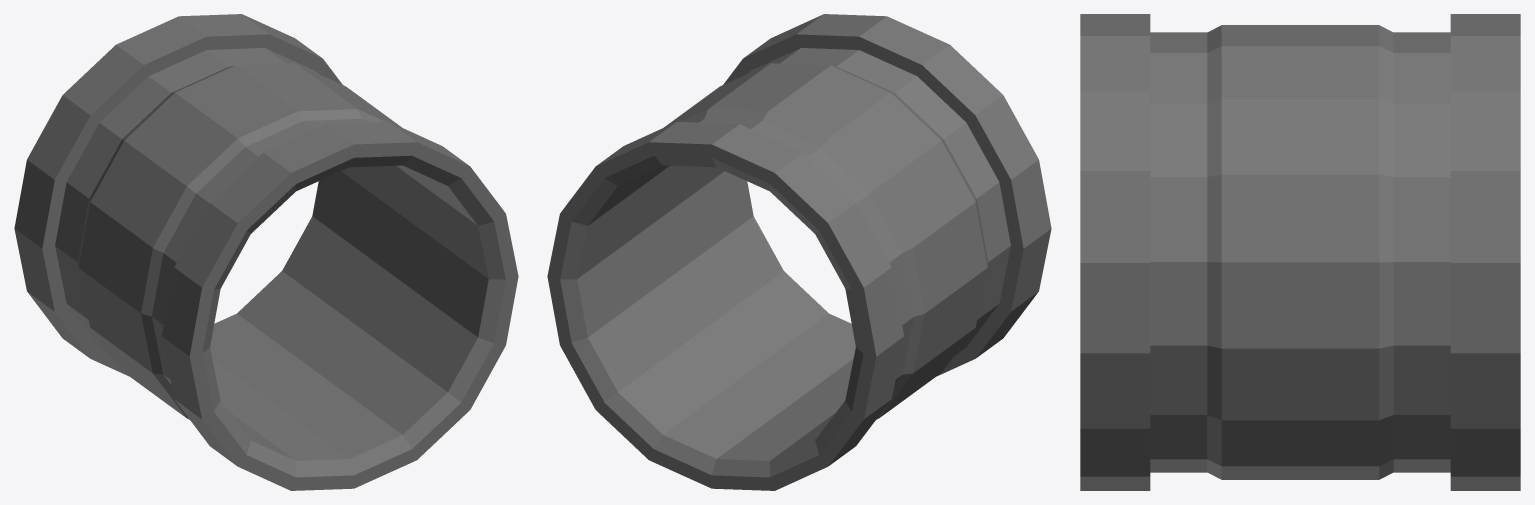
File: tuyau.fbx
The picture shows the model from 3 angles, left to right: view 1: azimuth 30°, elevation 25°; view 2: azimuth 150°, elevation 25°; view 3: azimuth 270°, elevation 25°; orthographic projection. The views are drawn at different scales.
Visible parts, largest first — view 1: Cylinder.007; view 2: Cylinder.007; view 3: Cylinder.007.
Boxes of the visible parts, <box> form: Cylinder.007: <box>14,14,518,490</box>; Cylinder.007: <box>547,14,1051,490</box>; Cylinder.007: <box>1080,14,1520,490</box>.
Size of the model in its own units: 1136 by 1136 by 1048.
Materials: 1 (1 with a texture image).
